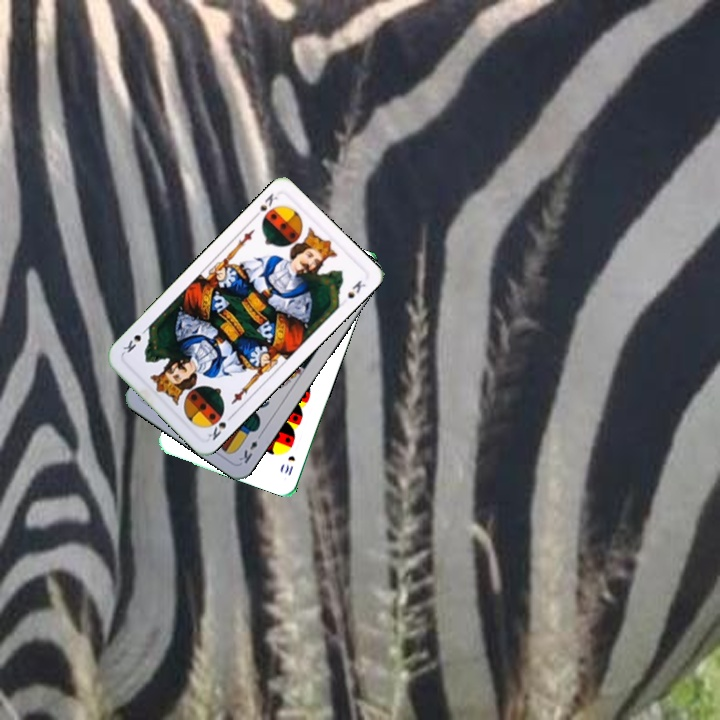EK: (235, 429, 265, 466)
S10: (280, 451, 298, 478)
SK: (204, 410, 236, 443), (250, 189, 280, 222)
